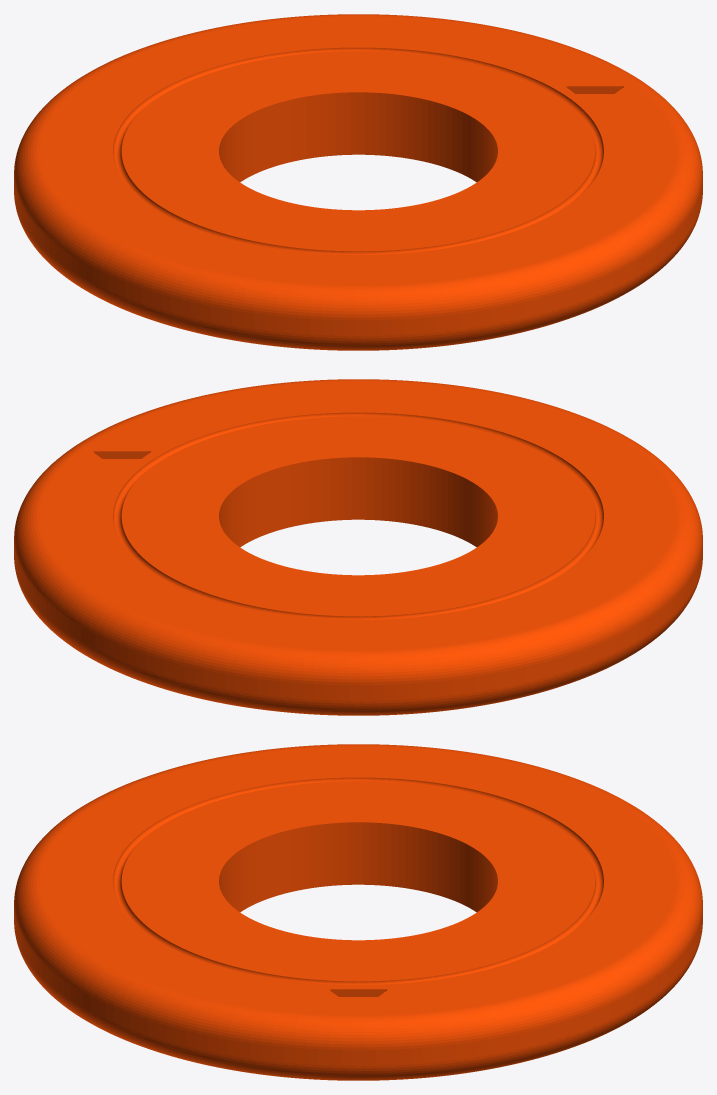
The picture shows the model from 3 angles, top to bottom: view 1: azimuth 30°, elevation 25°; view 2: azimuth 150°, elevation 25°; view 3: azimuth 270°, elevation 25°; orthographic projection.
Parts seen in each view (by area): view 1: imagetostl_mesh0; view 2: imagetostl_mesh0; view 3: imagetostl_mesh0.
Part boxes in pixels (x1,y1,x2,y2): imagetostl_mesh0: [14, 14, 702, 350]; imagetostl_mesh0: [14, 379, 702, 715]; imagetostl_mesh0: [14, 744, 702, 1080].
Bounding box in the file's own units: 7999 × 800 × 8000.
